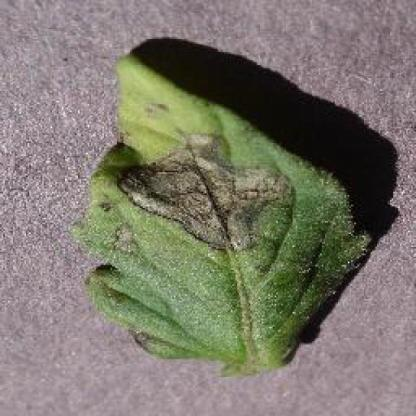Tomato_Blight: (74, 54, 370, 373)
